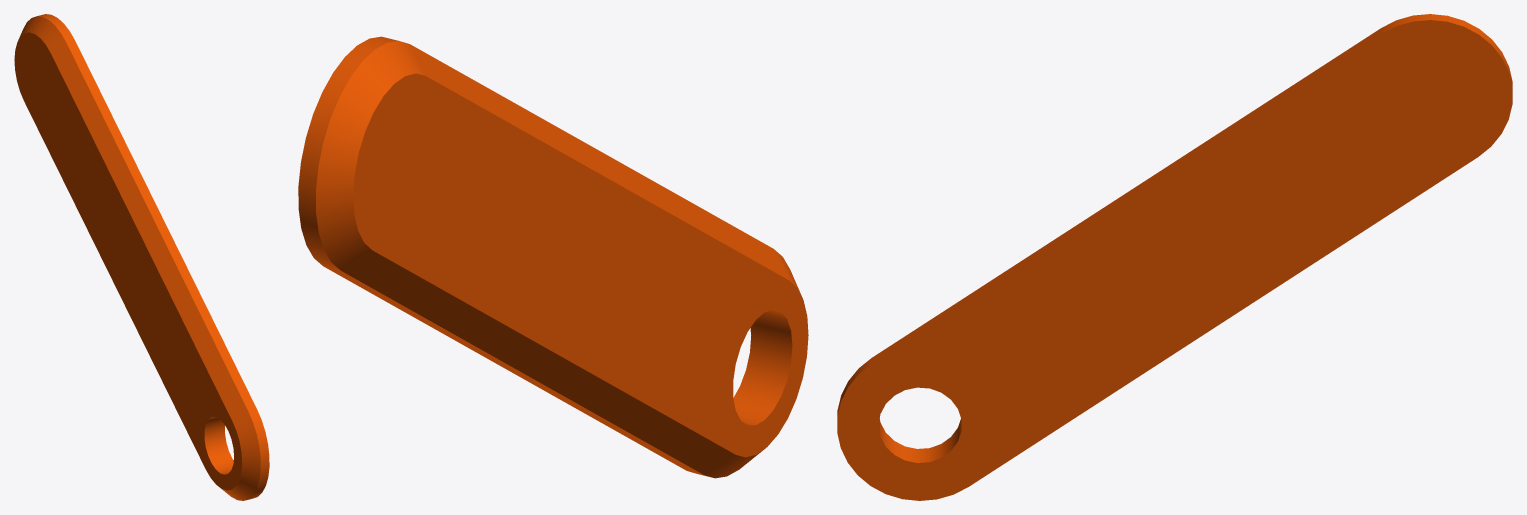
Rendered from RightEar.glb.
The picture shows the model from 3 angles, left to right: view 1: azimuth 30°, elevation 25°; view 2: azimuth 150°, elevation 25°; view 3: azimuth 270°, elevation 25°; orthographic projection. The views are drawn at different scales.
Visible parts, largest first — view 1: RightEar; view 2: RightEar; view 3: RightEar.
Part boxes in pixels (x1,y1,x2,y2): RightEar: (14, 14, 269, 500); RightEar: (298, 36, 808, 478); RightEar: (837, 14, 1512, 500).
Size of the model in its own units: 2 by 31.8 by 40.47.
